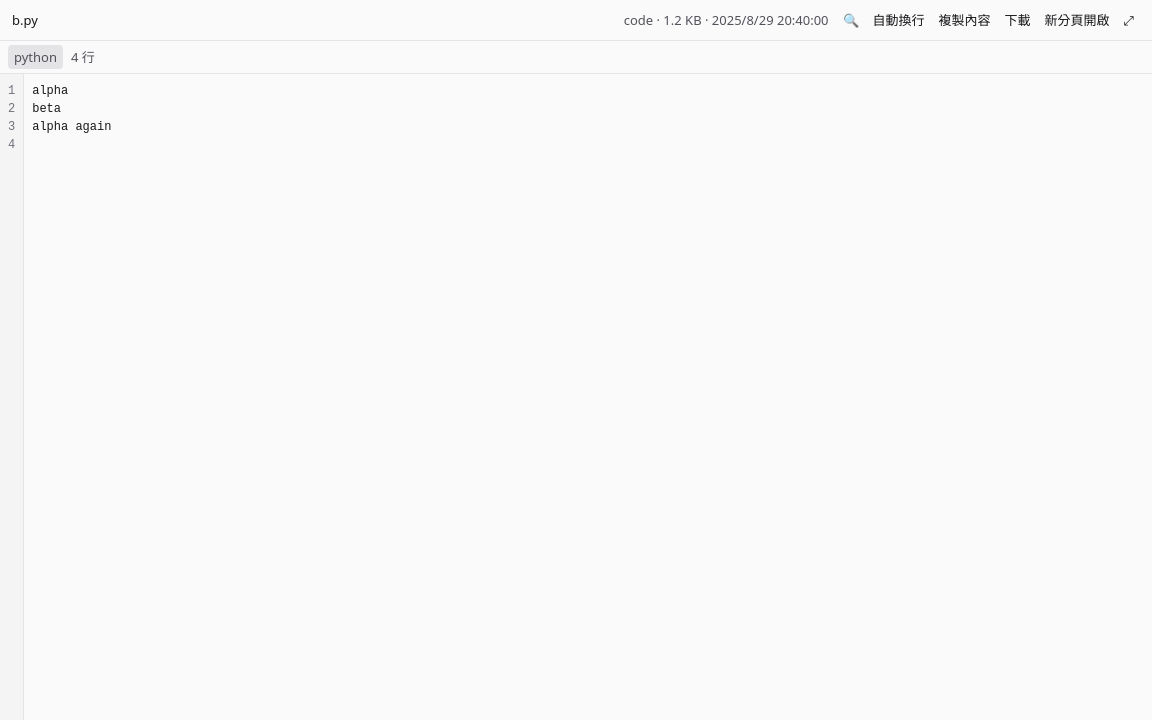
Test case: FilePreview 狀態與來源 › 文字類提供搜尋，命中數顯示在程式碼檢視
This screenshot has width=1152, height=720.
Click the button with test id "preview-search-toggle" at (850, 20), box [836,8,864,32]
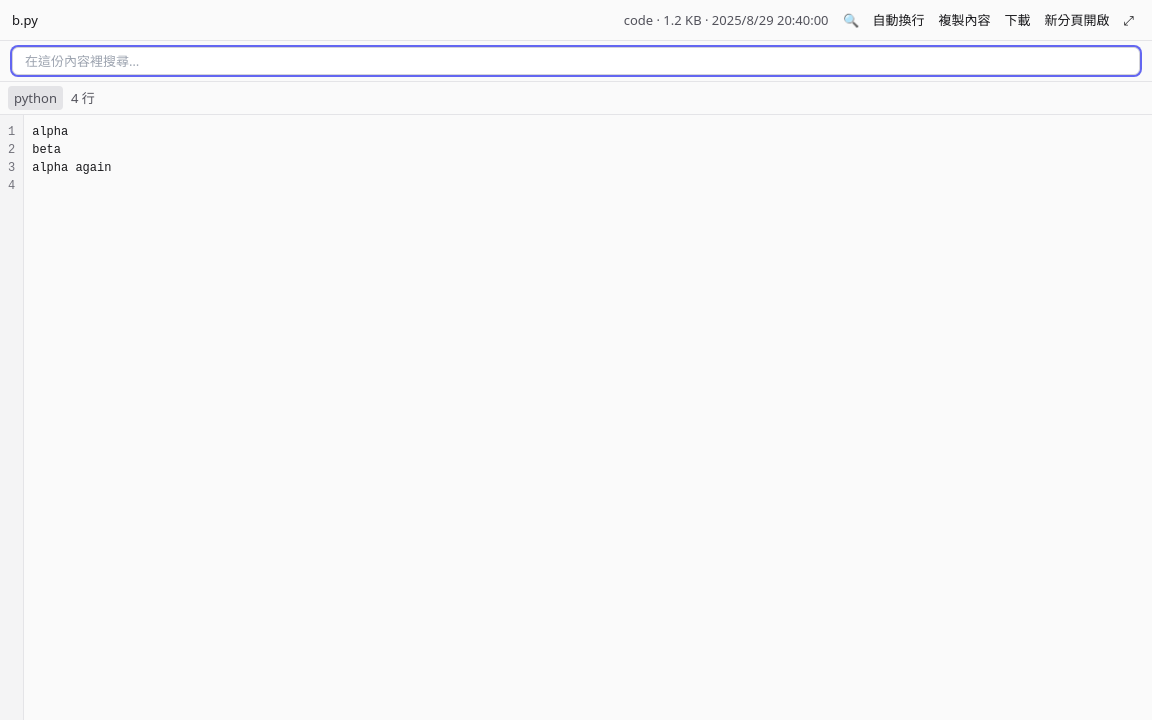
Type "alpha" into the field with test id "preview-search-input" at (576, 61), box [12,47,1140,75]
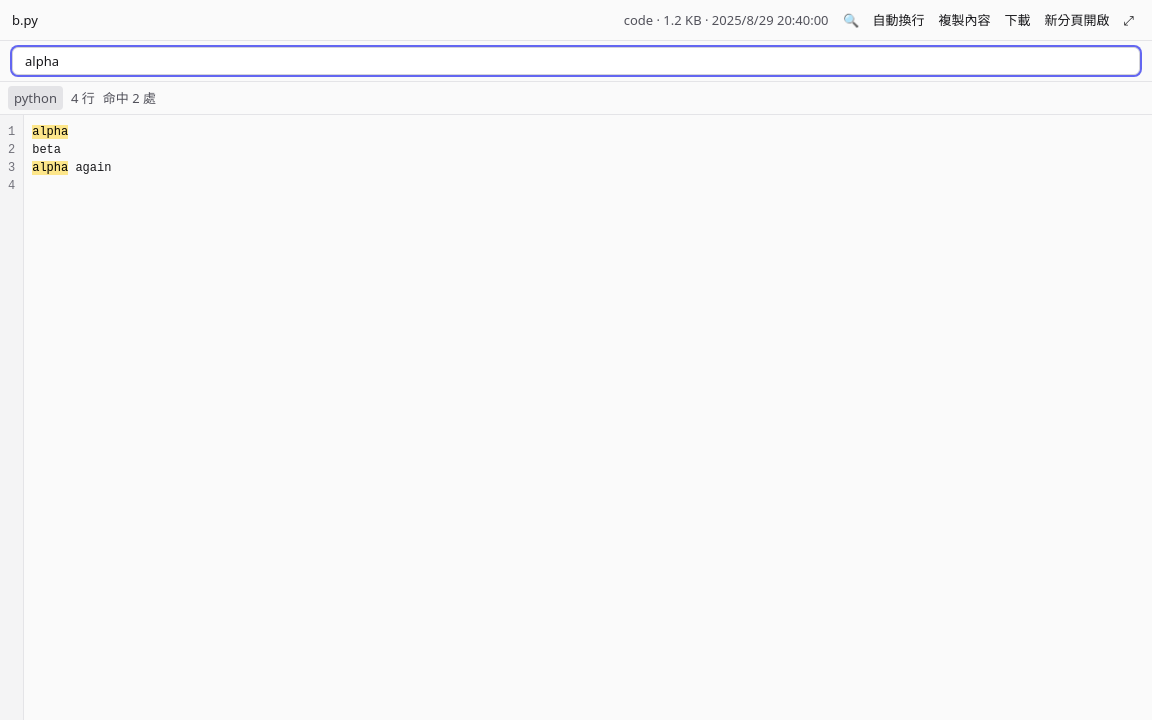
Check: the text with test id "code-hits" shows "2", box [103,89,156,107]
